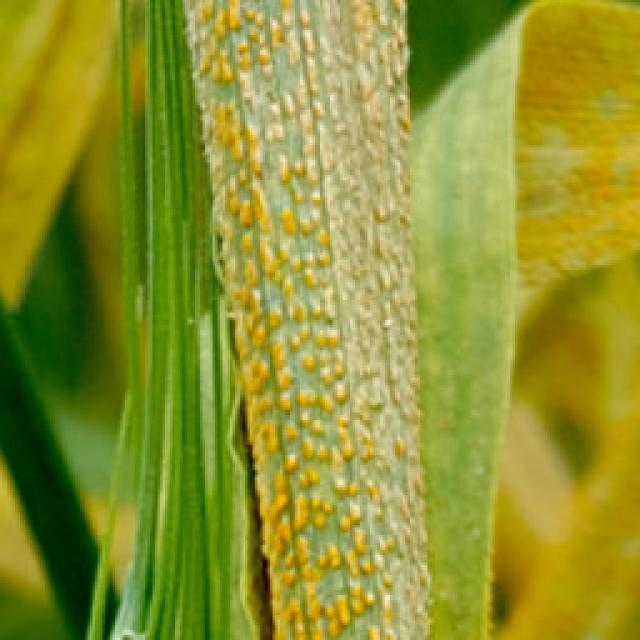Yellow_Rust: (187, 0, 426, 639), (412, 0, 639, 639)
